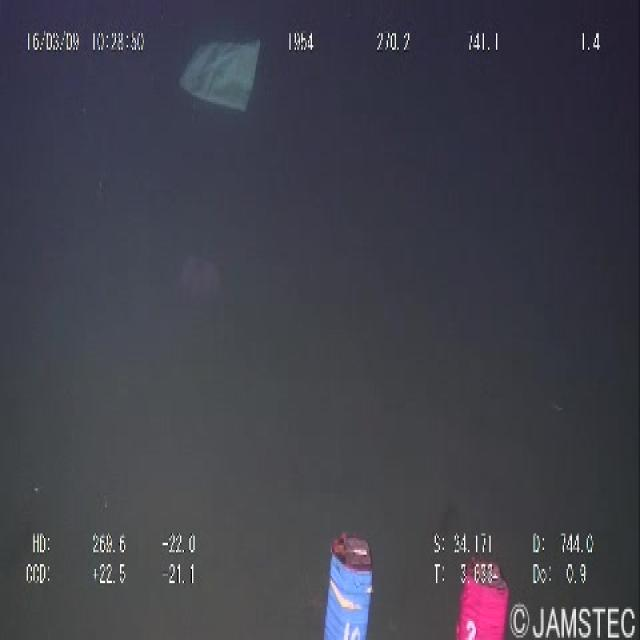plastic: (175, 28, 269, 128)
